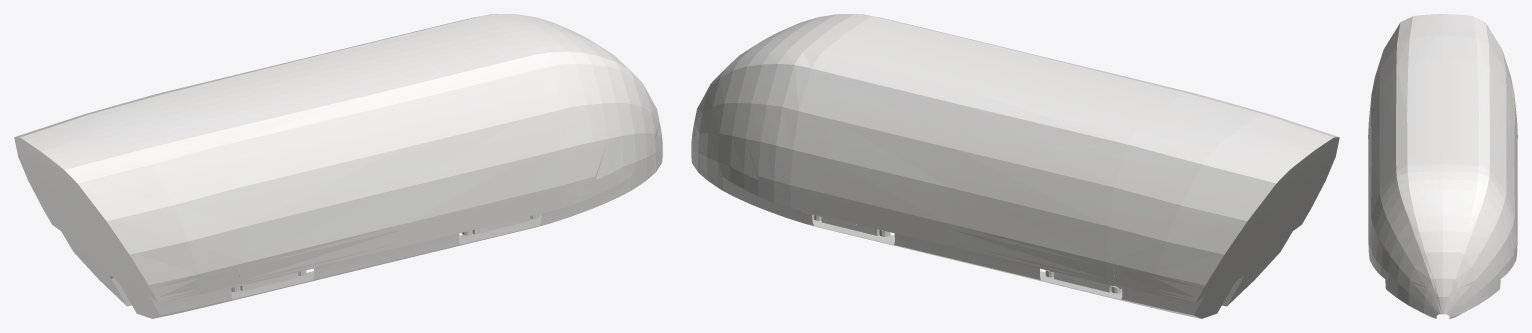
File: 190701_HLO_Global_LK07.glb
3 renders of one model, left to right at view 1: azimuth 30°, elevation 25°; view 2: azimuth 150°, elevation 25°; view 3: azimuth 270°, elevation 25°, orthographic. The views are drawn at different scales.
Parts seen in each view (by area): view 1: 001 Pod Top, 002 Pod Bottom Center, 004 Pod Bottom Rear, 003 Pod Bottom Front, 005 Pod Boogies; view 2: 001 Pod Top, 002 Pod Bottom Center, 004 Pod Bottom Rear, 003 Pod Bottom Front, 005 Pod Boogies; view 3: 001 Pod Top, 003 Pod Bottom Front.
Part boxes in pixels (x1,y1,x2,y2): 001 Pod Top: [14, 14, 659, 288]; 002 Pod Bottom Center: [213, 192, 555, 305]; 004 Pod Bottom Rear: [44, 211, 239, 318]; 003 Pod Bottom Front: [512, 121, 662, 228]; 005 Pod Boogies: [231, 214, 538, 292]; 001 Pod Top: [694, 14, 1339, 288]; 002 Pod Bottom Center: [798, 192, 1140, 305]; 004 Pod Bottom Rear: [1114, 211, 1309, 318]; 003 Pod Bottom Front: [691, 121, 837, 228]; 005 Pod Boogies: [796, 209, 1123, 293]; 001 Pod Top: [1368, 14, 1517, 290]; 003 Pod Bottom Front: [1368, 243, 1517, 318].
Size of the model in its own units: 9.32 by 2.67 by 2.9.
7 materials, 6 textured.
